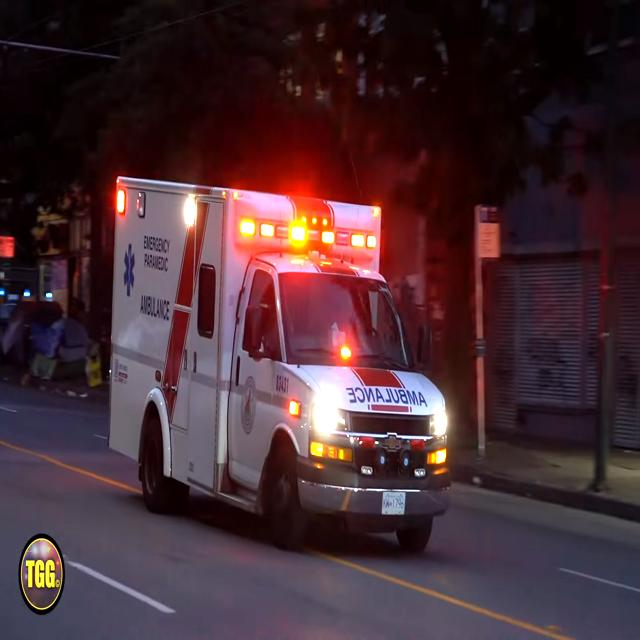emergency-vehicles: (104, 161, 462, 571)
